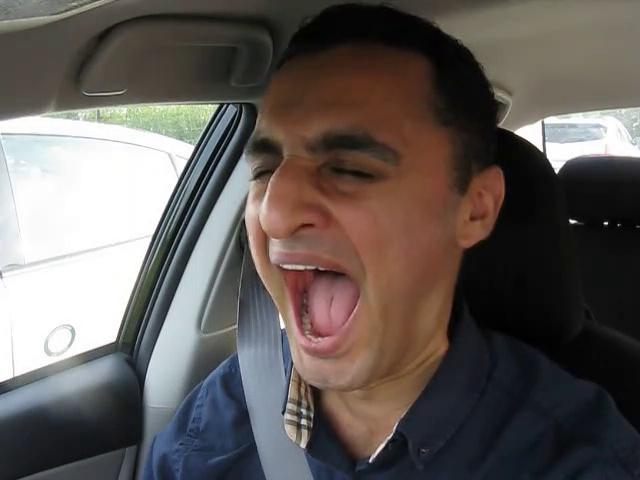close_eyeL: (239, 144, 287, 191)
close_eyeR: (300, 143, 401, 200)
yawn: (271, 239, 377, 363)
